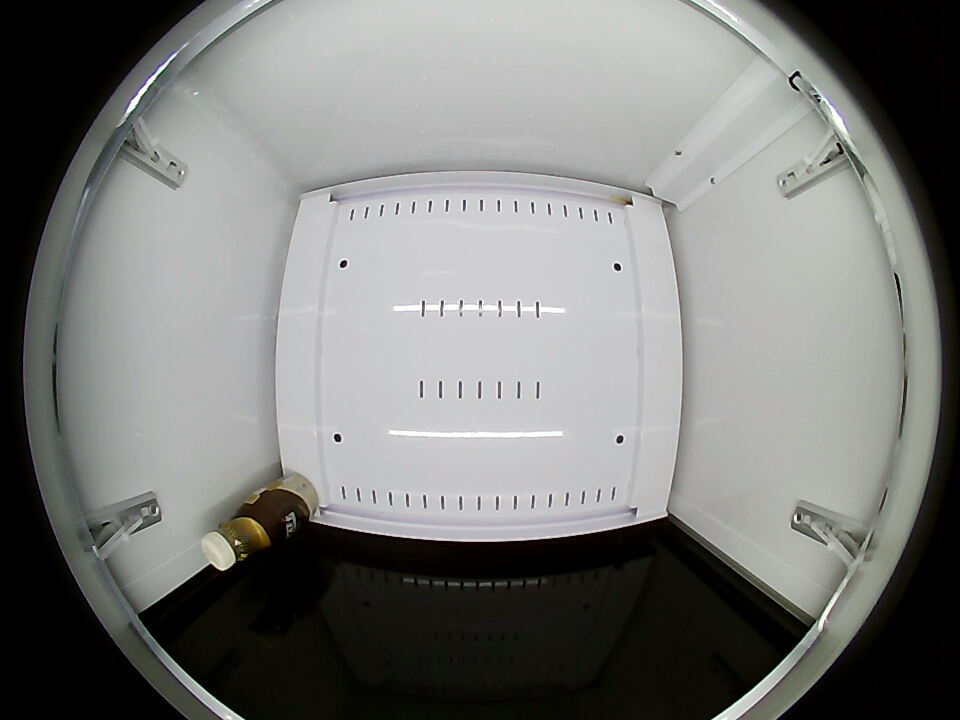kafei: (201, 496, 281, 572)
